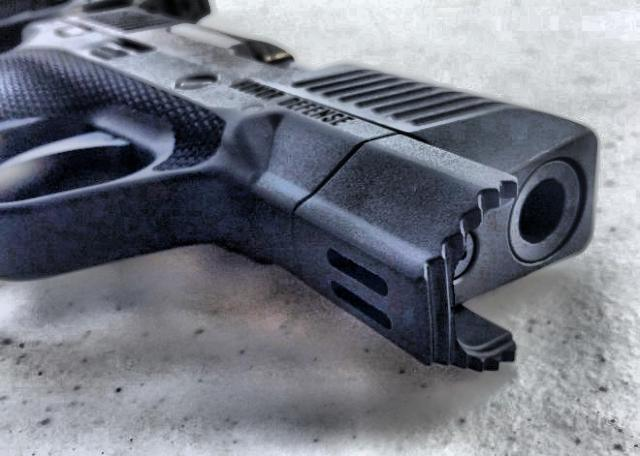pistol: (0, 0, 590, 386)
